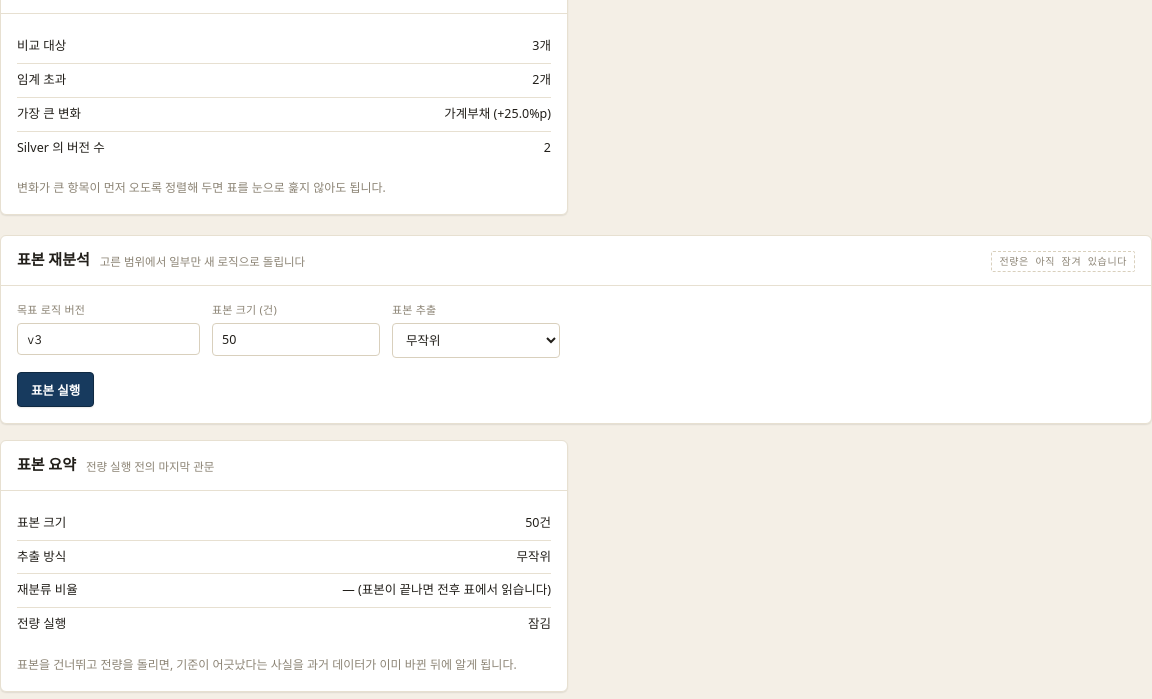
Scenario: submits a sample for the selected scope and keeps the full run locked
(page scrolled)
expect the text with class "rp-gate" reads "잠김": met, box [528,615,551,632]
Replace the text in the number field labelled "표본 크기 (건)" with "80" at x=296, y=340, box [212,323,380,356]
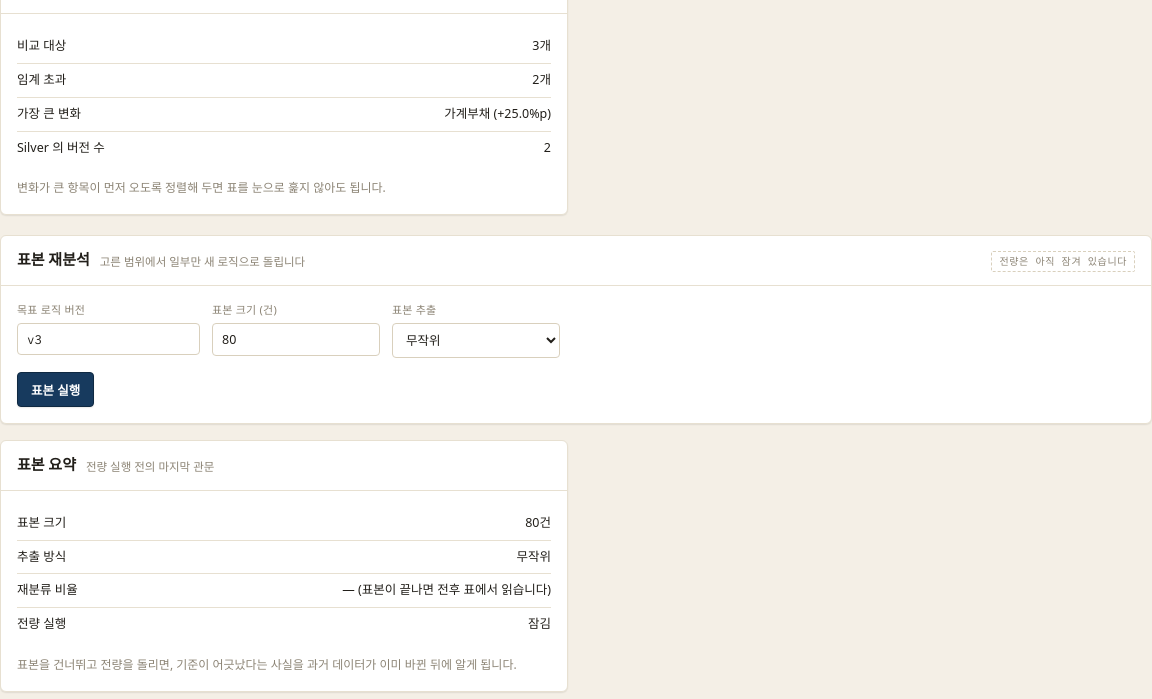
Click the button with class "rp-sample" at x=56, y=390, box [17,372,94,407]
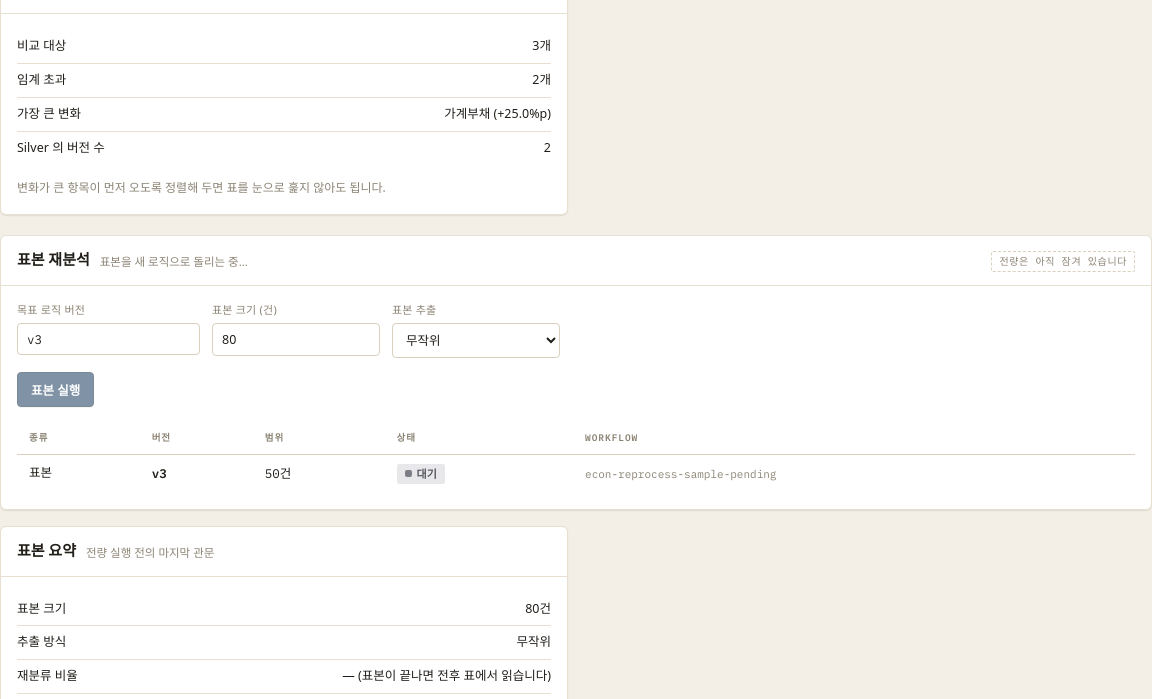
expect the table with class "rp-runs" is shown: met, box [17,423,1135,493]
expect the table with class "rp-runs" shows "대기": met, box [417,466,437,480]
expect the text with class "sub" reads "표본을 새 로직으로 돌리는 중…": met, box [100,254,248,269]
